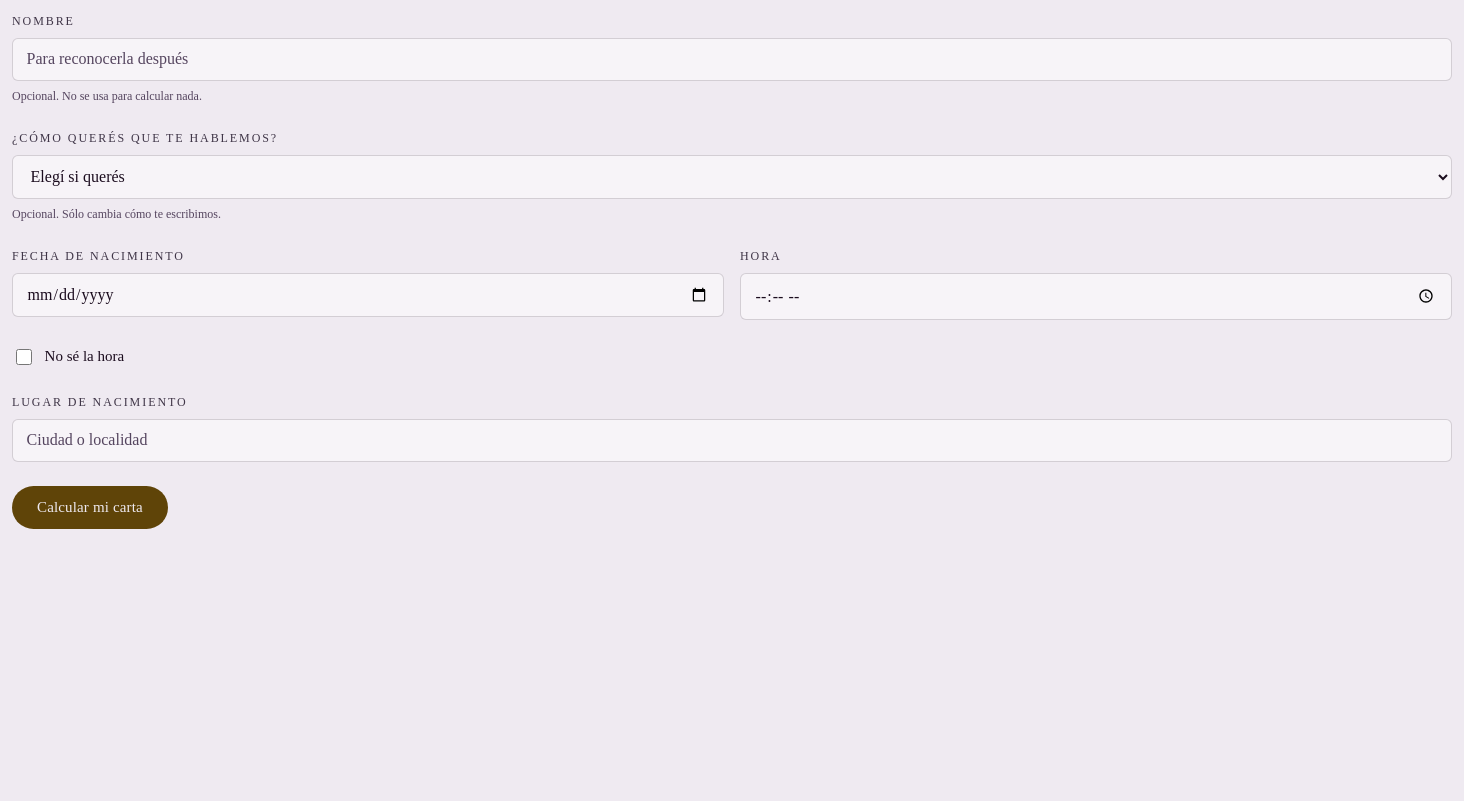
comprar sin cuenta desde la vista previa › el cupón de 100 % pide entrar con el mail
Type "1976-05-31" into the date field labelled "Fecha de nacimiento" at (368, 295), box [12, 273, 724, 318]
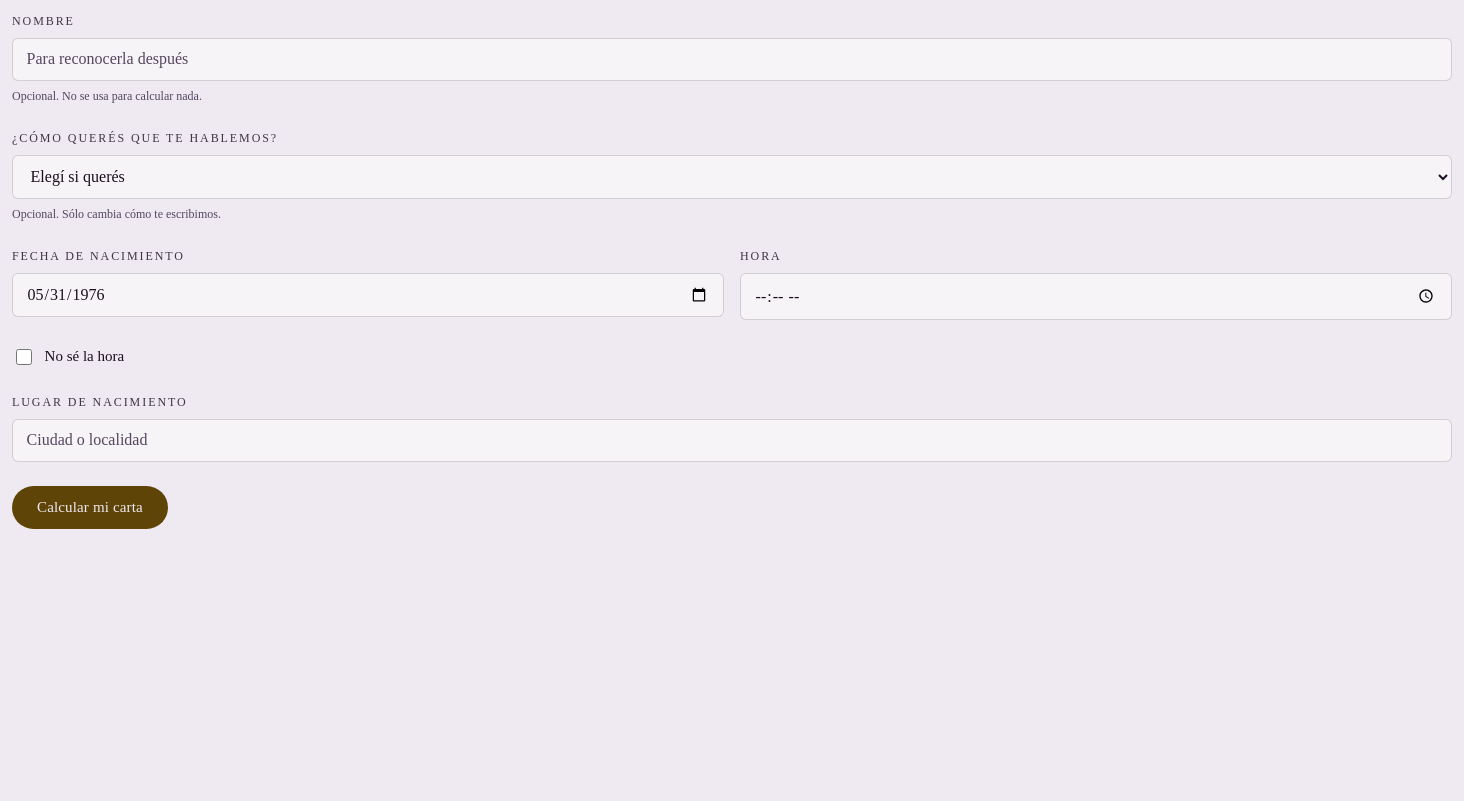
Type "rosario" into the field labelled "Lugar de nacimiento" at (732, 440), box [12, 419, 1452, 462]
Wait 400 ms
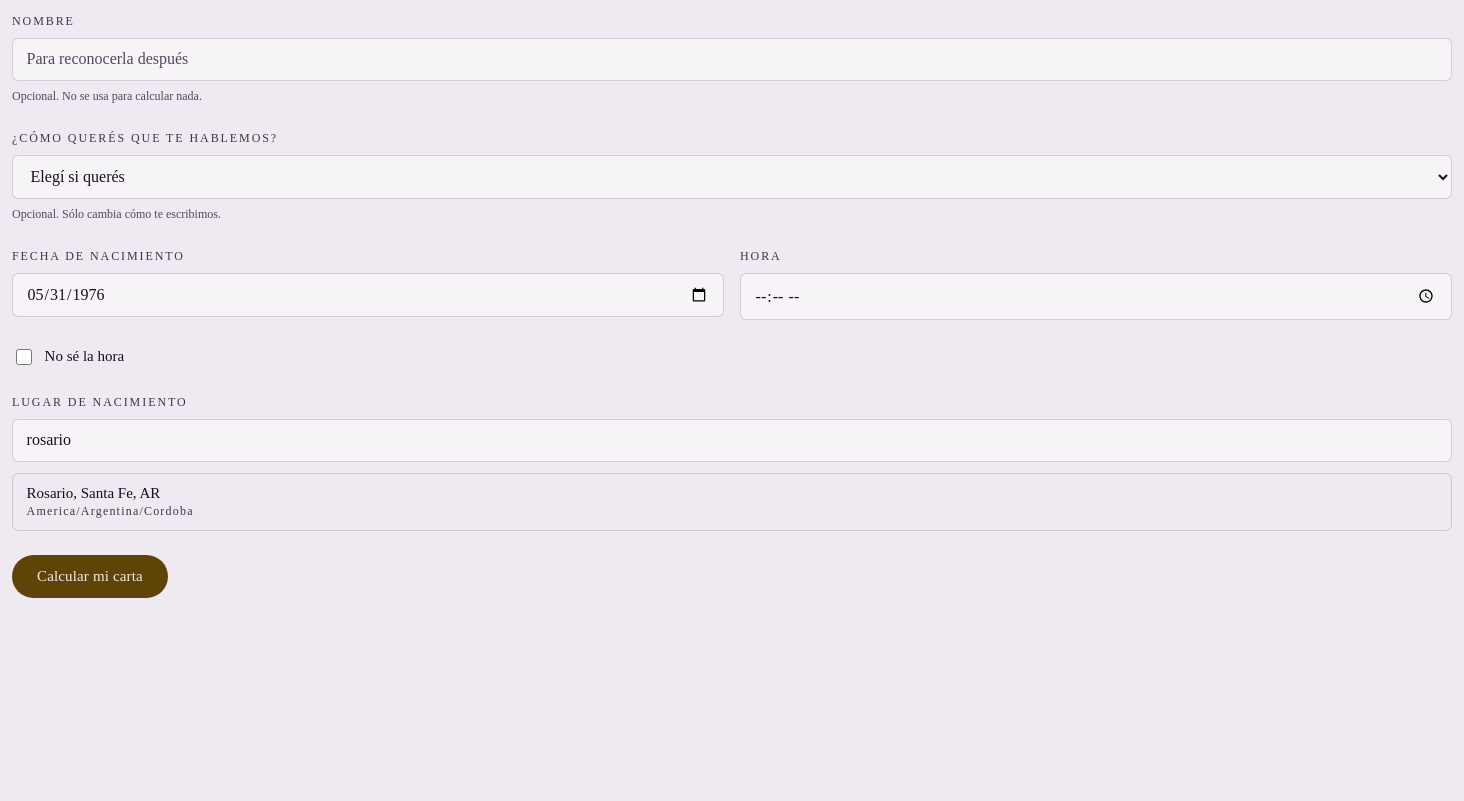
Click the button "Rosario, Santa Fe, AR America/Argentina/Cordoba" at (93, 493), box [13, 474, 1451, 530]
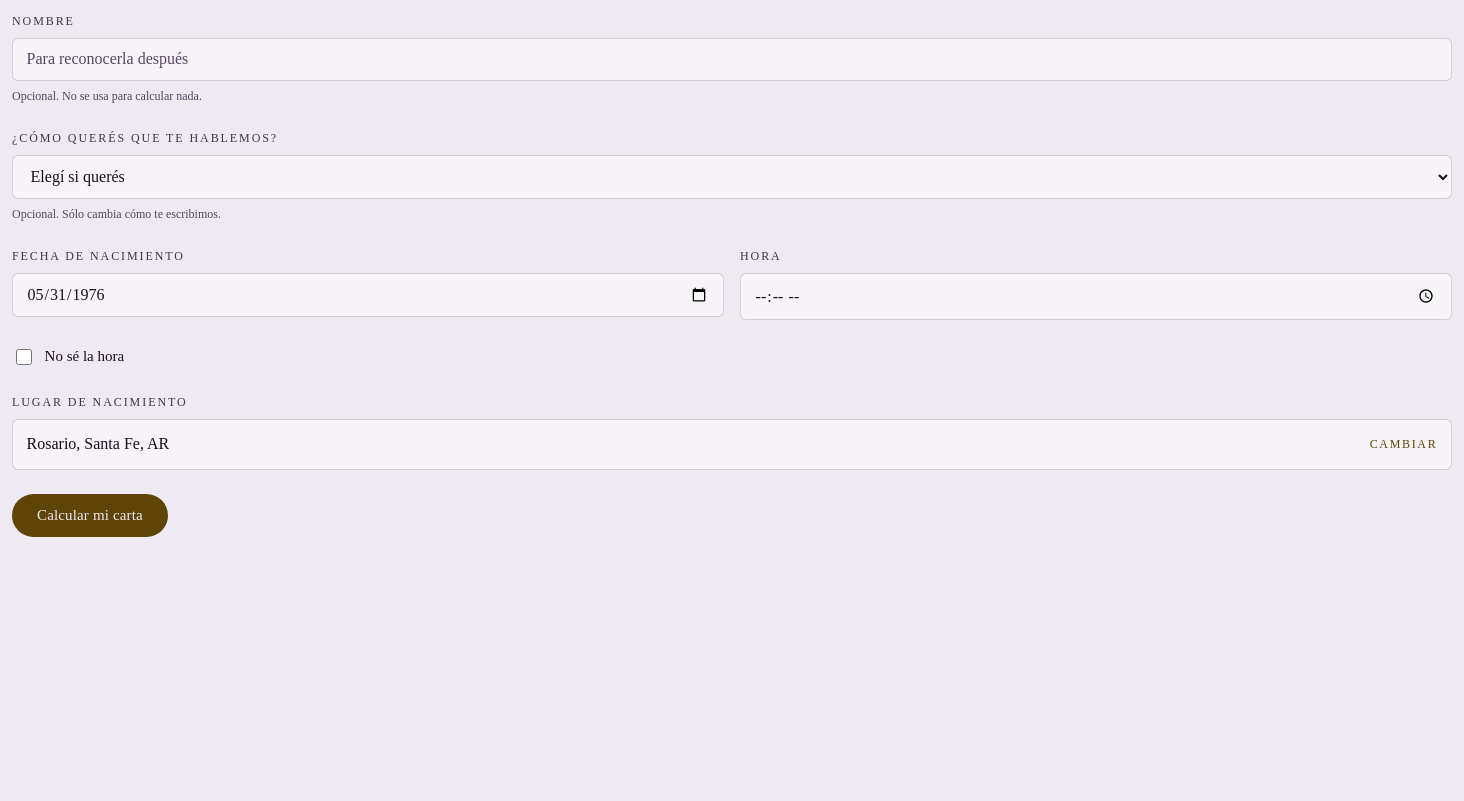
Click the button "Calcular mi carta" at (90, 516), box [12, 494, 168, 537]
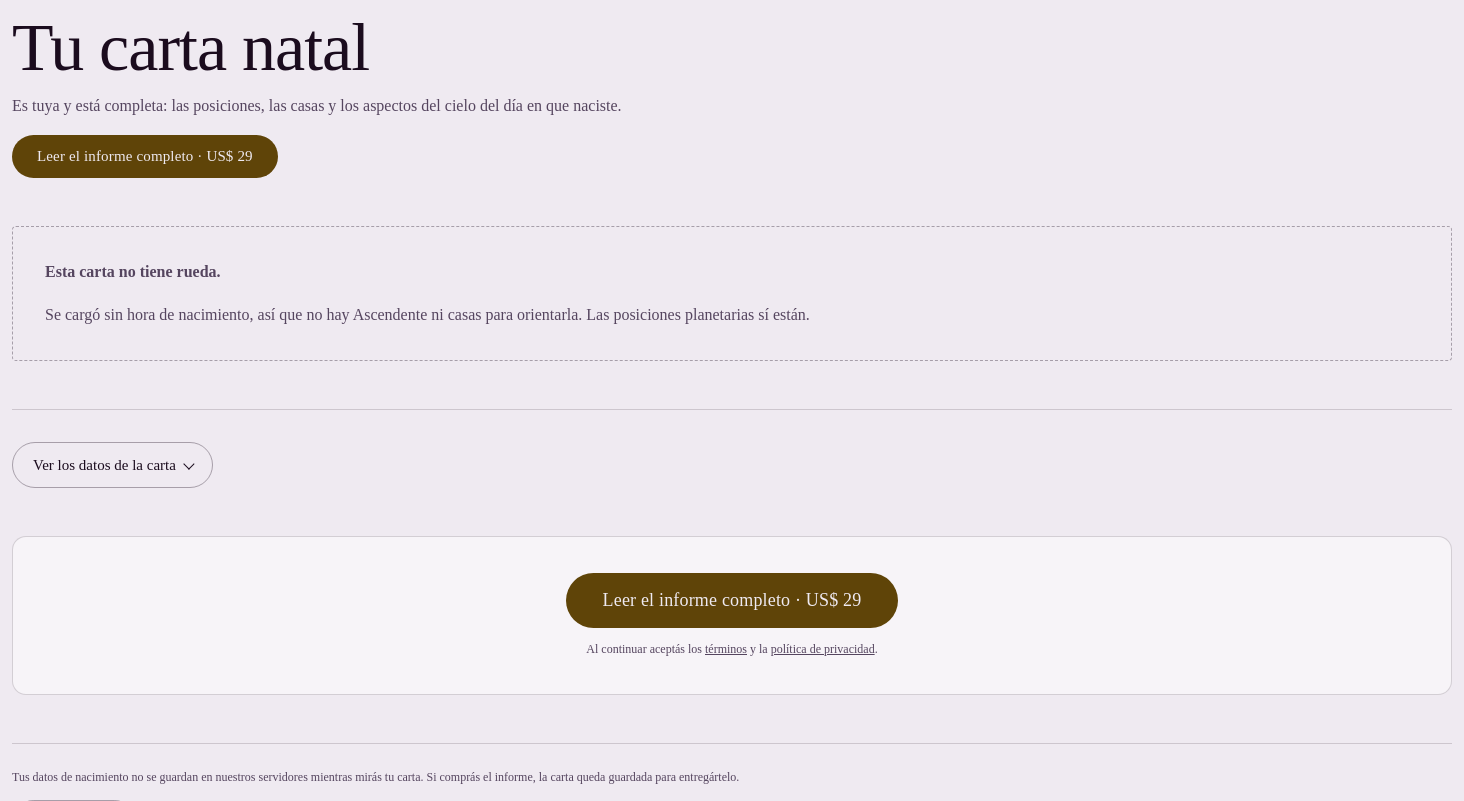
Click the button "Leer el informe completo · US$ 29" below "Tu carta natal" at (145, 157), box [12, 135, 278, 178]
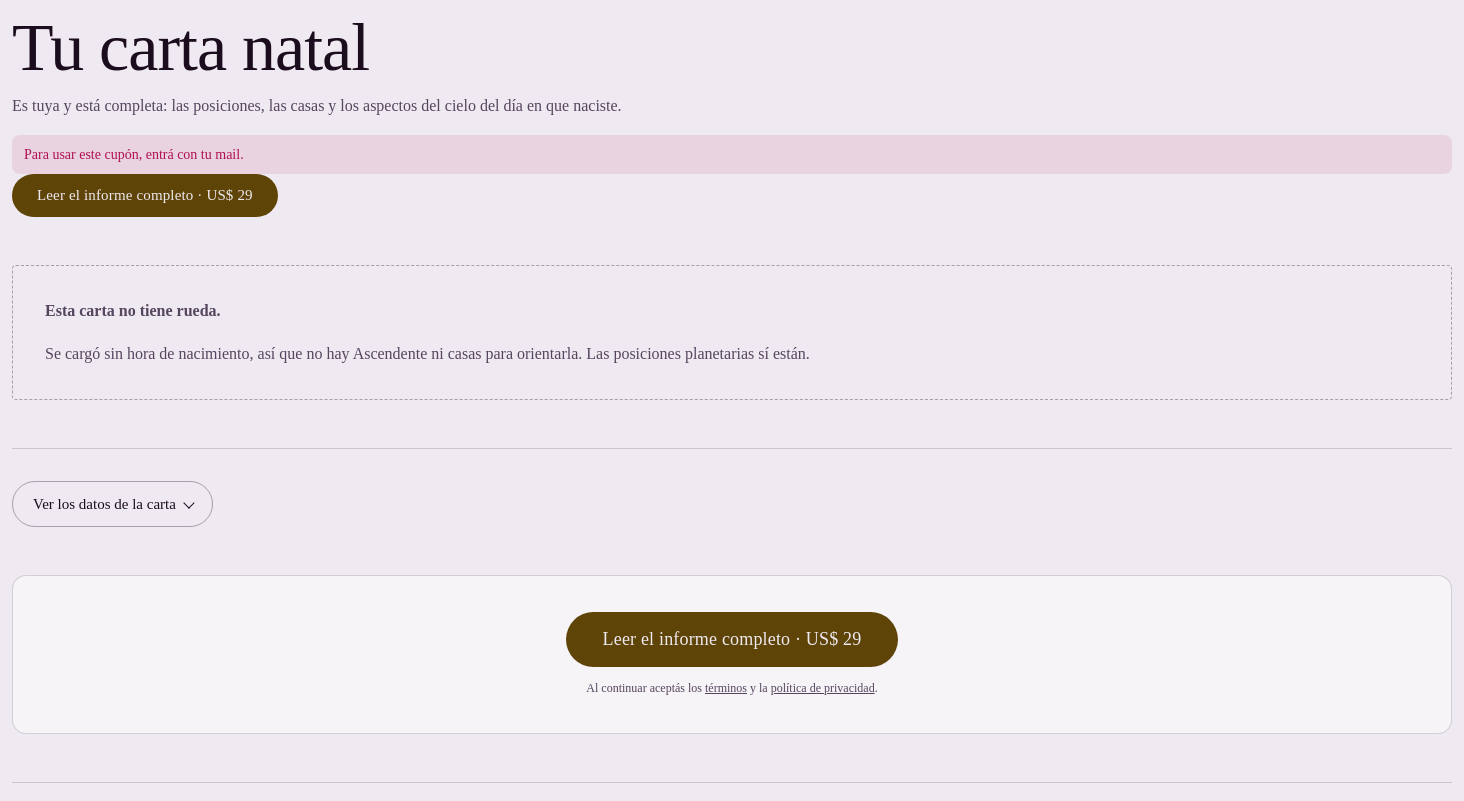
Check: the message reads "Para usar este cupón, entrá con tu mail.", box [24, 147, 244, 162]
